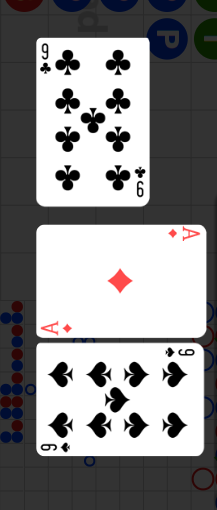9C: (40, 42, 53, 76)
9S: (40, 441, 73, 454)
AD: (165, 226, 201, 243)
